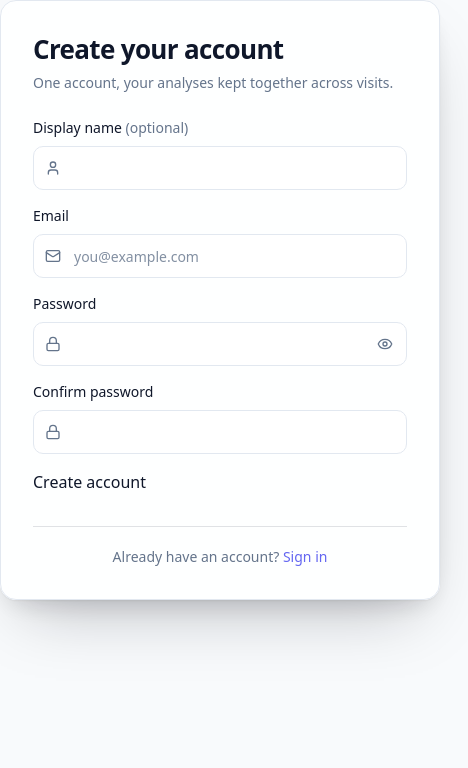
Test case: Register page › flags mismatched confirmations
Type "Analyst" into the field labelled "Display name (optional)" at (220, 168), box x1=33 y1=146 x2=407 y2=190
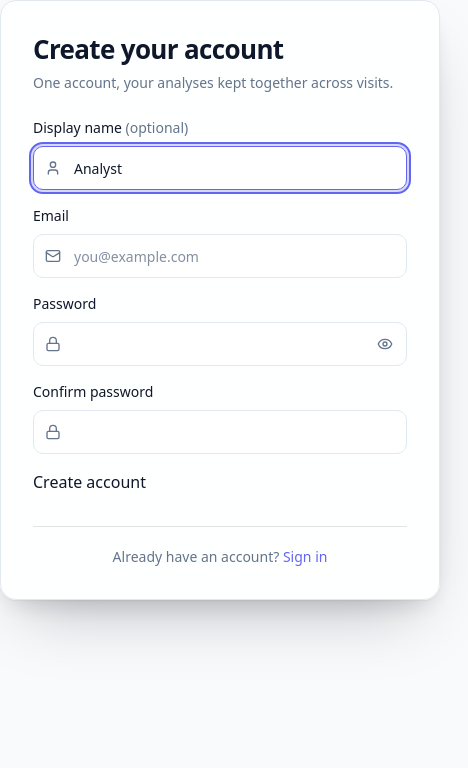
Type "analyst@example.com" into the field labelled "Email" at (220, 256), box x1=33 y1=234 x2=407 y2=278
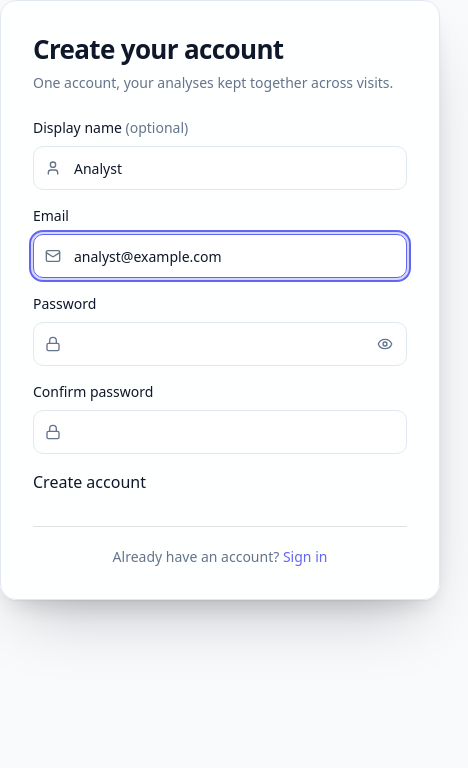
Type "correct horse battery" into the password field labelled "Password" at (220, 344), box x1=33 y1=322 x2=407 y2=366
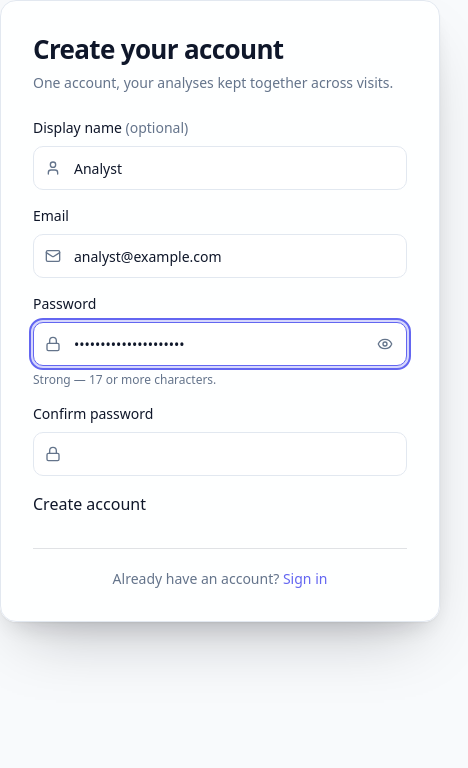
Type "different" into the password field labelled "Confirm password" at (220, 454), box x1=33 y1=432 x2=407 y2=476
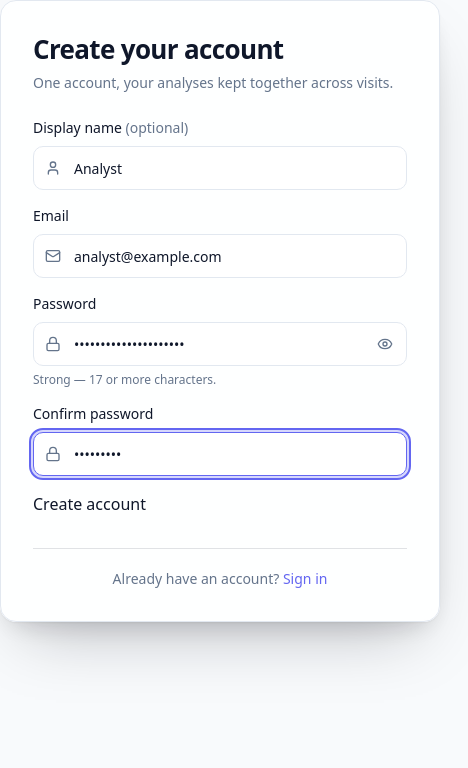
Click the button "Create account" at (89, 504), box x1=33 y1=492 x2=146 y2=516
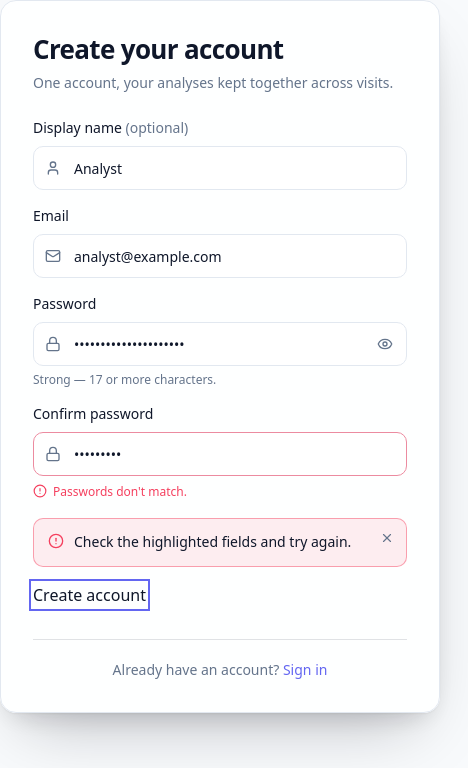
Now the text "Passwords don't match." is shown, box x1=53 y1=482 x2=187 y2=502
